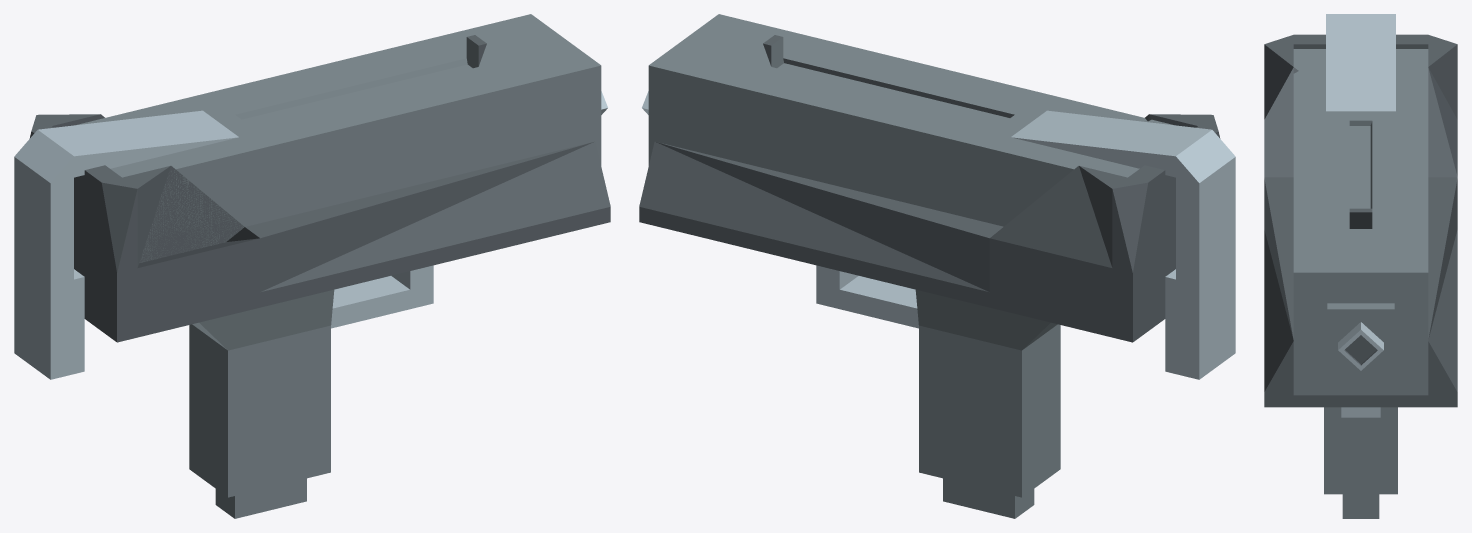
Rendered from mac.fbx.
The picture shows the model from 3 angles, left to right: view 1: azimuth 30°, elevation 25°; view 2: azimuth 150°, elevation 25°; view 3: azimuth 270°, elevation 25°; orthographic projection. The views are drawn at different scales.
Visible parts, largest first — view 1: body; view 2: body; view 3: body.
Boxes of the visible parts, x1,y1,x2,y2 form: body: (14, 14, 610, 518); body: (639, 14, 1235, 518); body: (1264, 14, 1457, 518).
Bounding box in the file's own units: 274 × 191 × 85.16.
